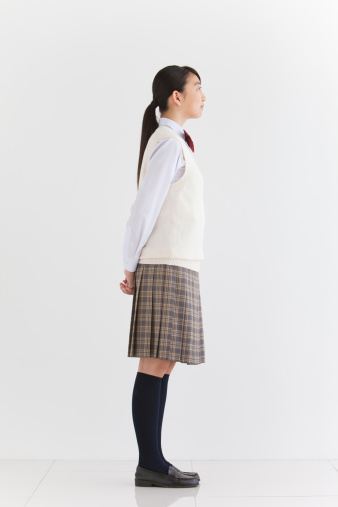em pe: (103, 49, 227, 480)
